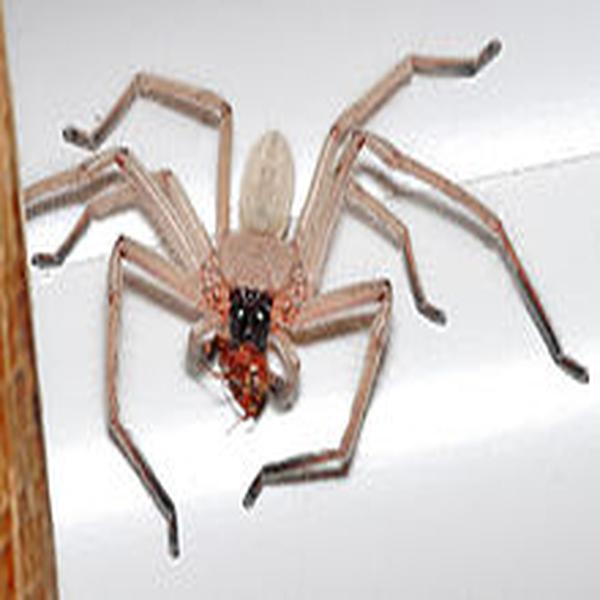Huntsman Spider: (44, 41, 582, 531)
